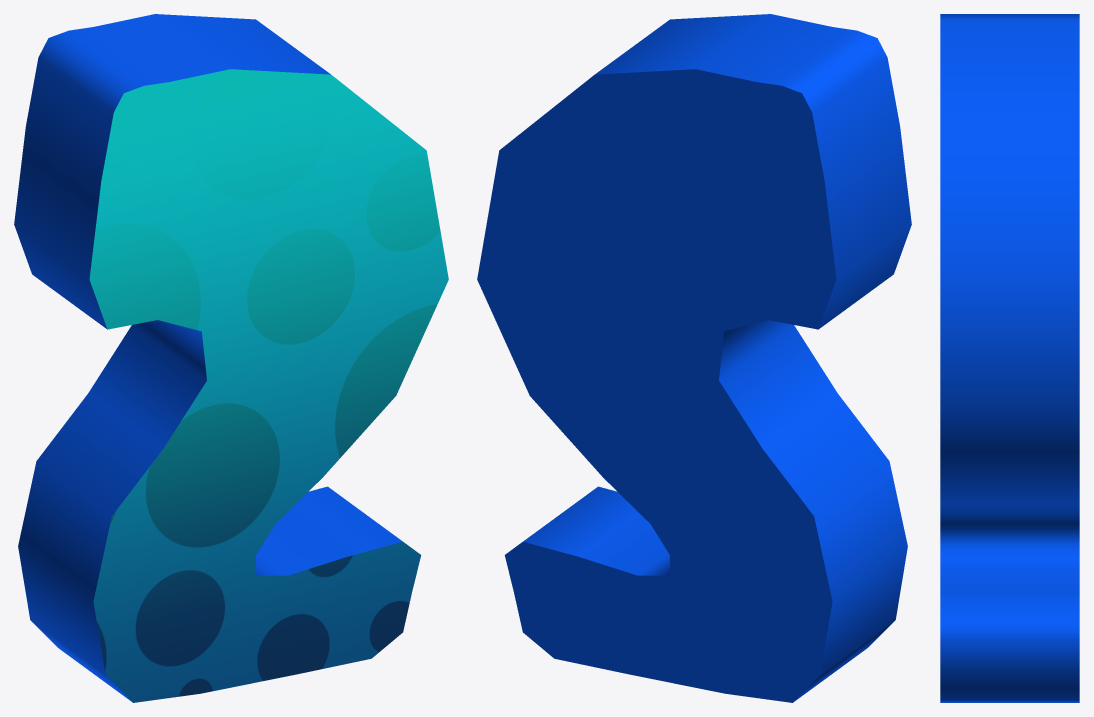
The picture shows the model from 3 angles, left to right: view 1: azimuth 30°, elevation 25°; view 2: azimuth 150°, elevation 25°; view 3: azimuth 270°, elevation 25°; orthographic projection. The views are drawn at different scales.
Visible parts, largest first — view 1: 2; view 2: 2; view 3: 2.
Boxes of the visible parts, <box> form: 2: <box>14,14,448,702</box>; 2: <box>477,14,911,702</box>; 2: <box>940,14,1079,702</box>.
Bounding box in the file's own units: 55.04 × 91.98 × 20.
2 materials, 1 textured.
